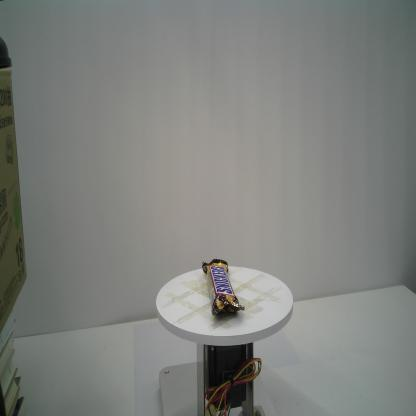Chocolate: (202, 259, 246, 316)
